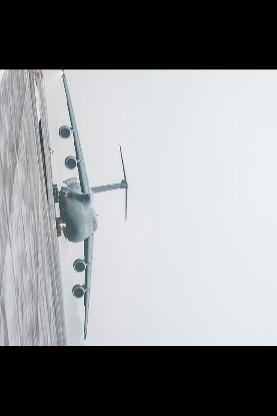C17: (52, 70, 130, 340)
